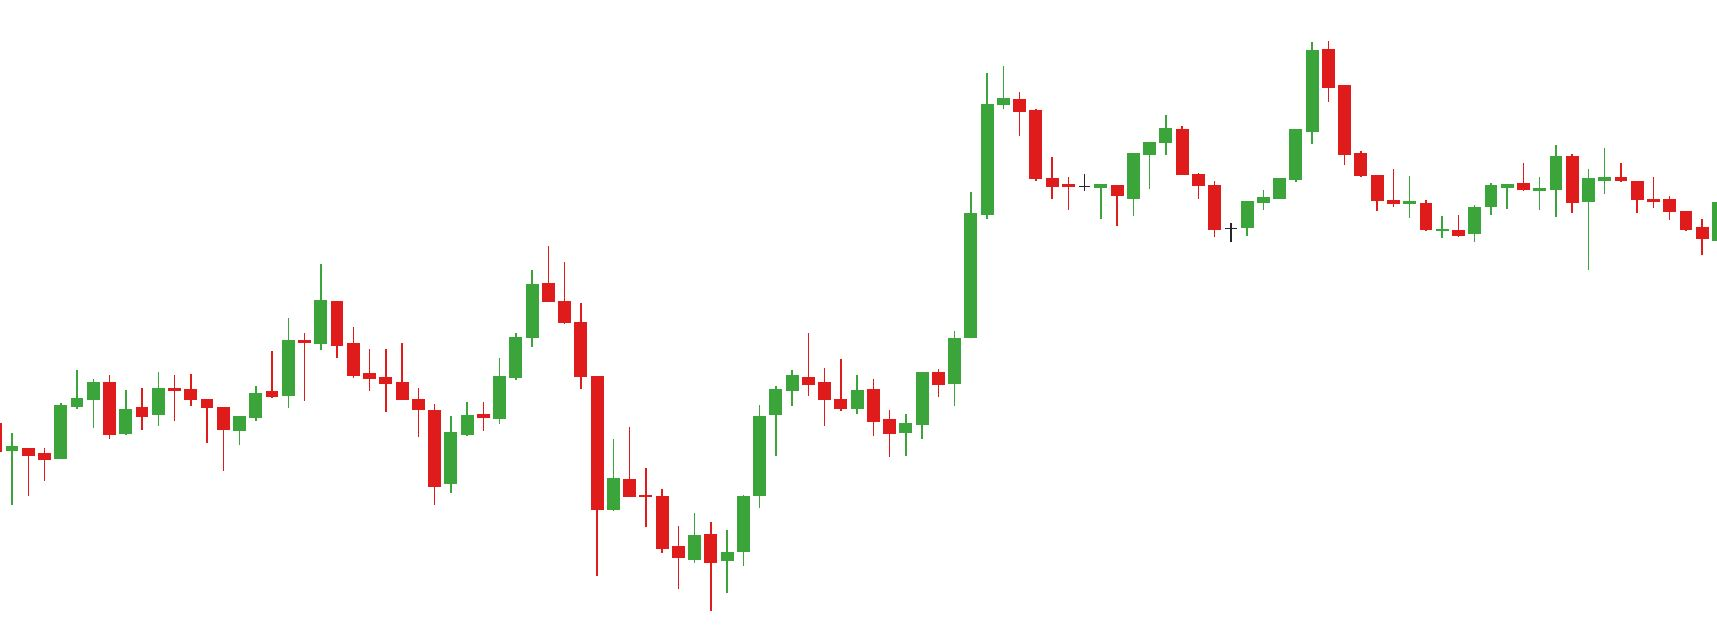buy: (1110, 144, 1258, 245), (117, 388, 235, 477)
sell: (313, 248, 558, 404)
